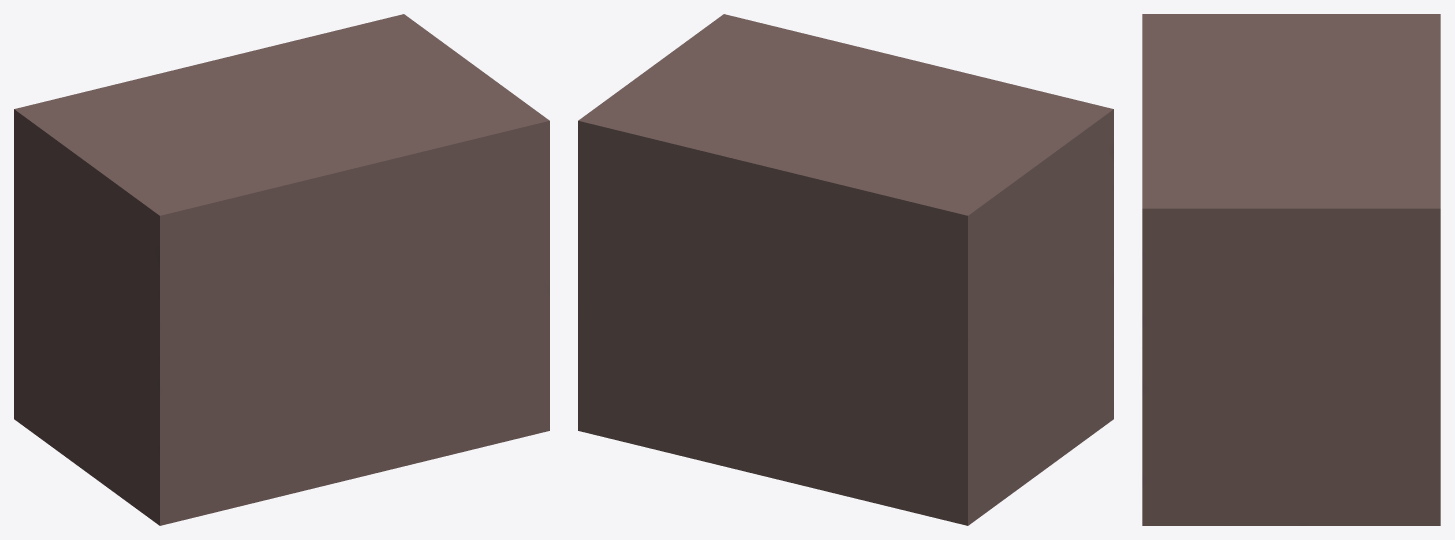
File: rock_wall_decoration.fbx
3 renders of one model, left to right at view 1: azimuth 30°, elevation 25°; view 2: azimuth 150°, elevation 25°; view 3: azimuth 270°, elevation 25°, orthographic. The views are drawn at different scales.
Parts seen in each view (by area): view 1: rock_wall_decoration; view 2: rock_wall_decoration; view 3: rock_wall_decoration.
Part boxes in pixels (x1=…): rock_wall_decoration: x1=14, y1=14, x2=549, y2=525; rock_wall_decoration: x1=578, y1=14, x2=1113, y2=525; rock_wall_decoration: x1=1142, y1=14, x2=1440, y2=525.
Size of the model in its own units: 526 by 400 by 341.
